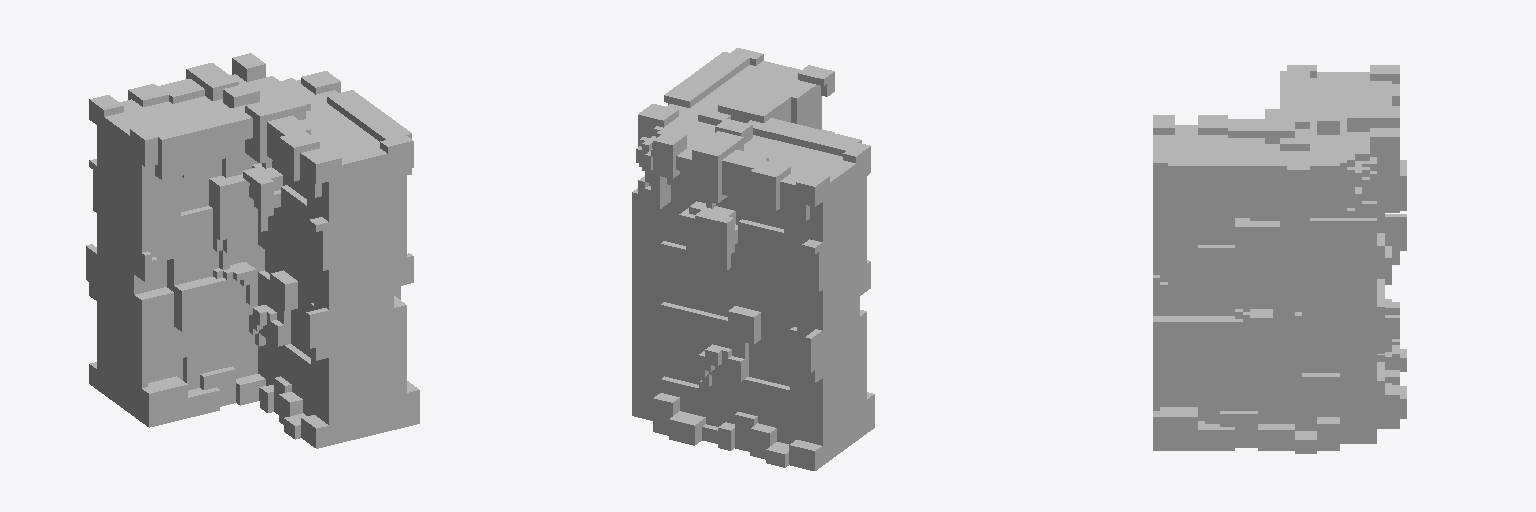
File: CornerWall.obj
3 views of the same model, side by side, from view 1: azimuth 30°, elevation 25°; view 2: azimuth 150°, elevation 25°; view 3: azimuth 270°, elevation 25° (orthographic).
Visible parts, largest first — view 1: object 1; view 2: object 1; view 3: object 1.
Part boxes in pixels (x1,y1,x2,y2): object 1: (86, 53, 419, 448); object 1: (632, 48, 874, 470); object 1: (1153, 65, 1406, 453).
Bounding box in the file's own units: 3.3 × 4.3 × 3.4.